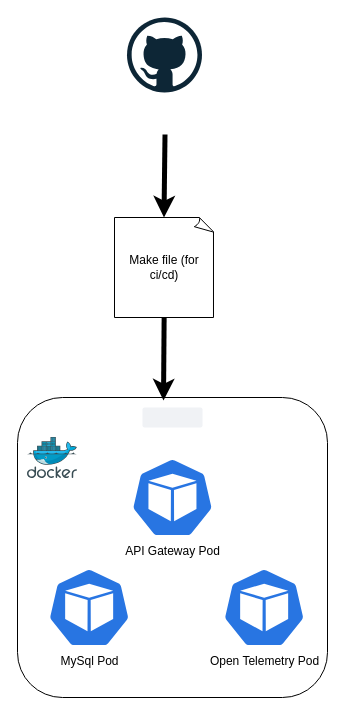
This 345x715 diagram has some shape labels left out. The box of each missing label's shape, as (x1, y1, x2, y2) in pixels:
Github For Config Files: (126, 16, 202, 92)
Kubernetes Cluster: (142, 407, 202, 427)
